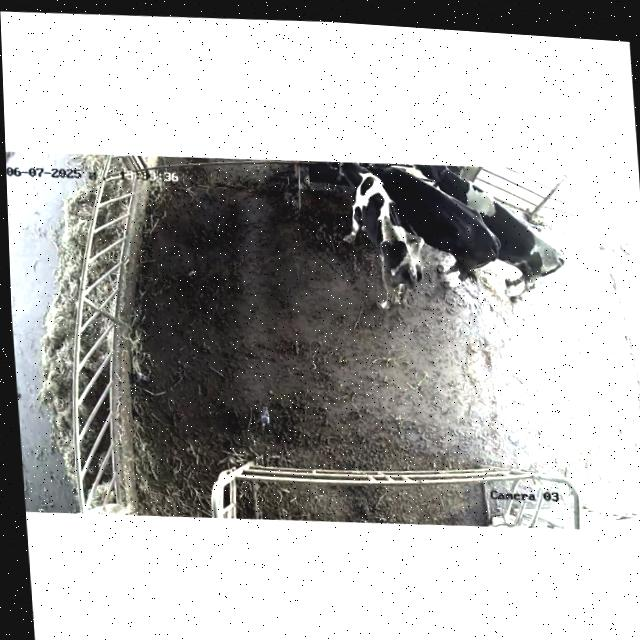drink: (328, 160, 377, 208), (359, 161, 402, 197)
stand: (412, 164, 564, 301)
